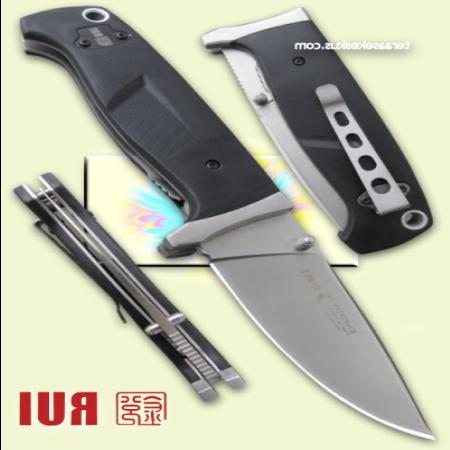long weapon: (193, 215, 444, 445)
